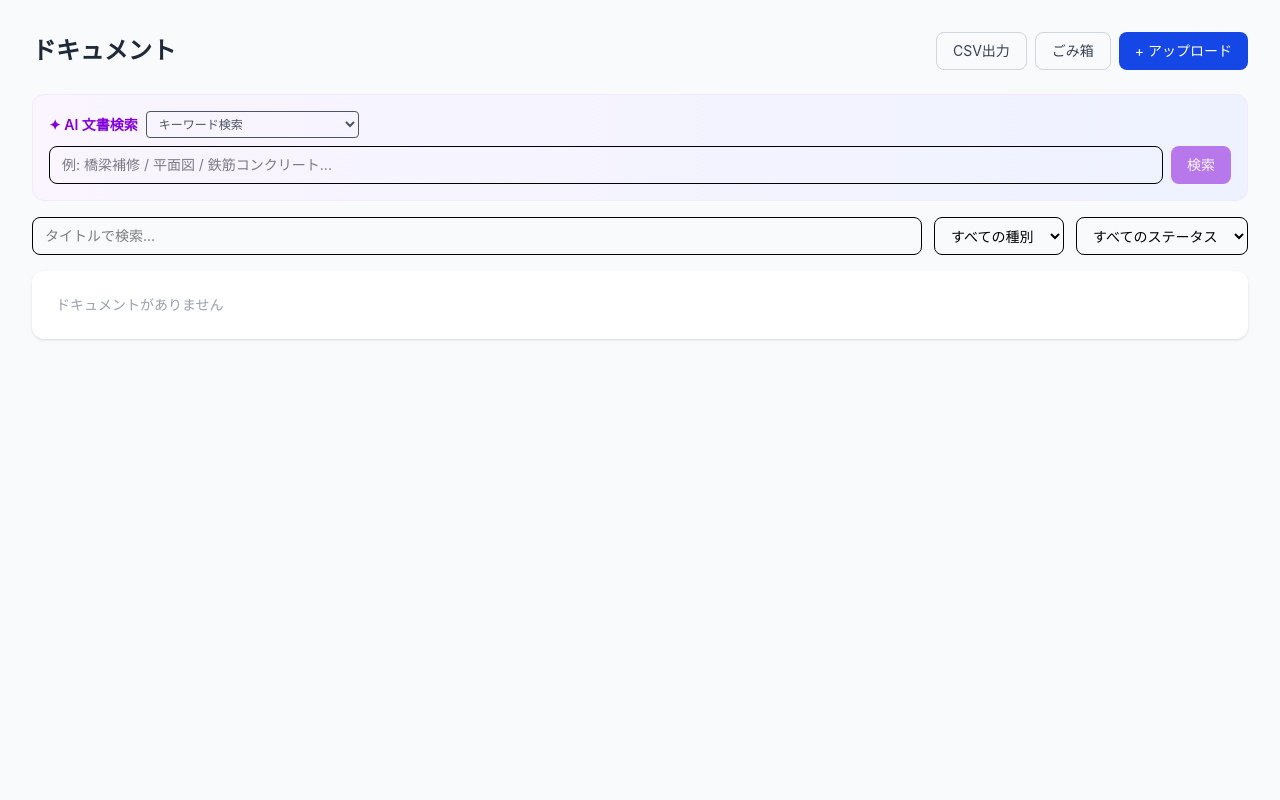
Test: Documents › hides upload form when cancel clicked
The image size is (1280, 800).
Click the button "+ アップロード".
click(1183, 51)  # box [1119,32,1248,70]
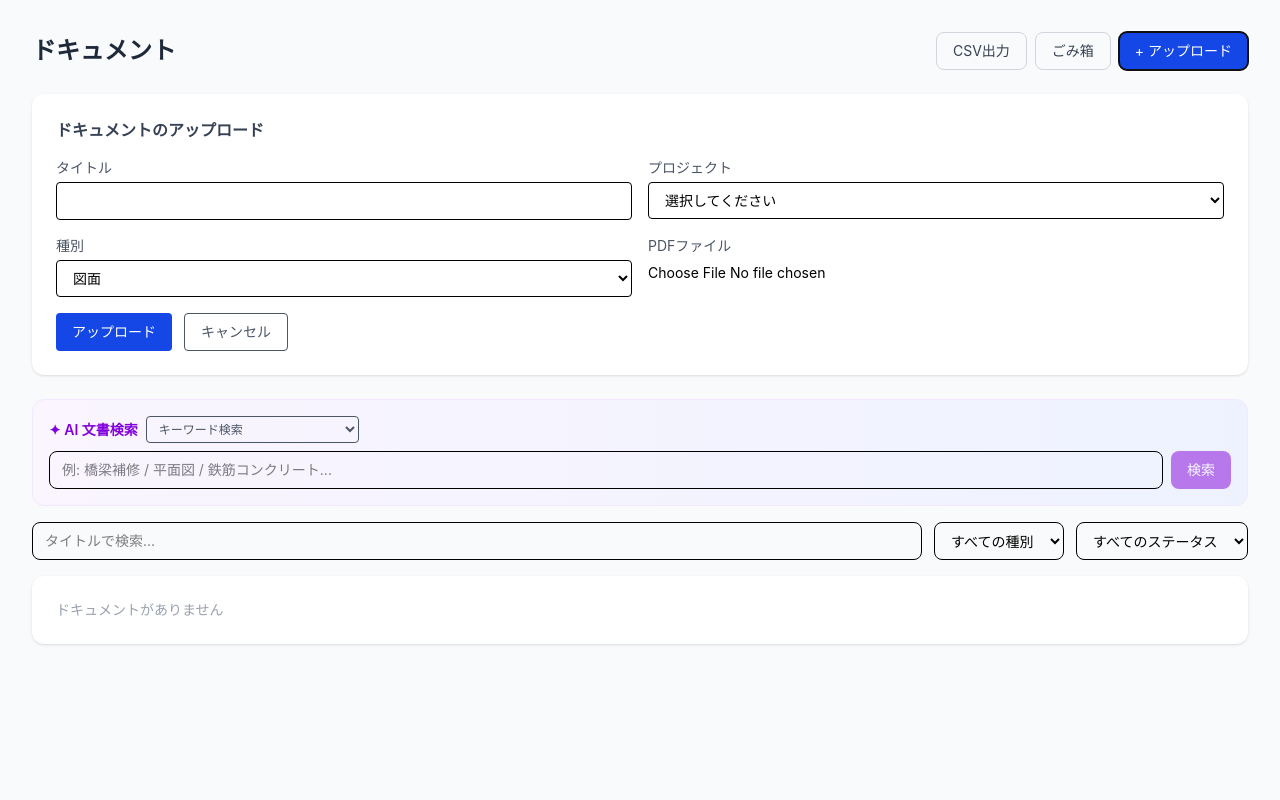
Check: the heading "ドキュメントのアップロード" is shown, box [56,120,264,140]
Click the button "キャンセル".
click(236, 332)  # box [184,313,288,351]
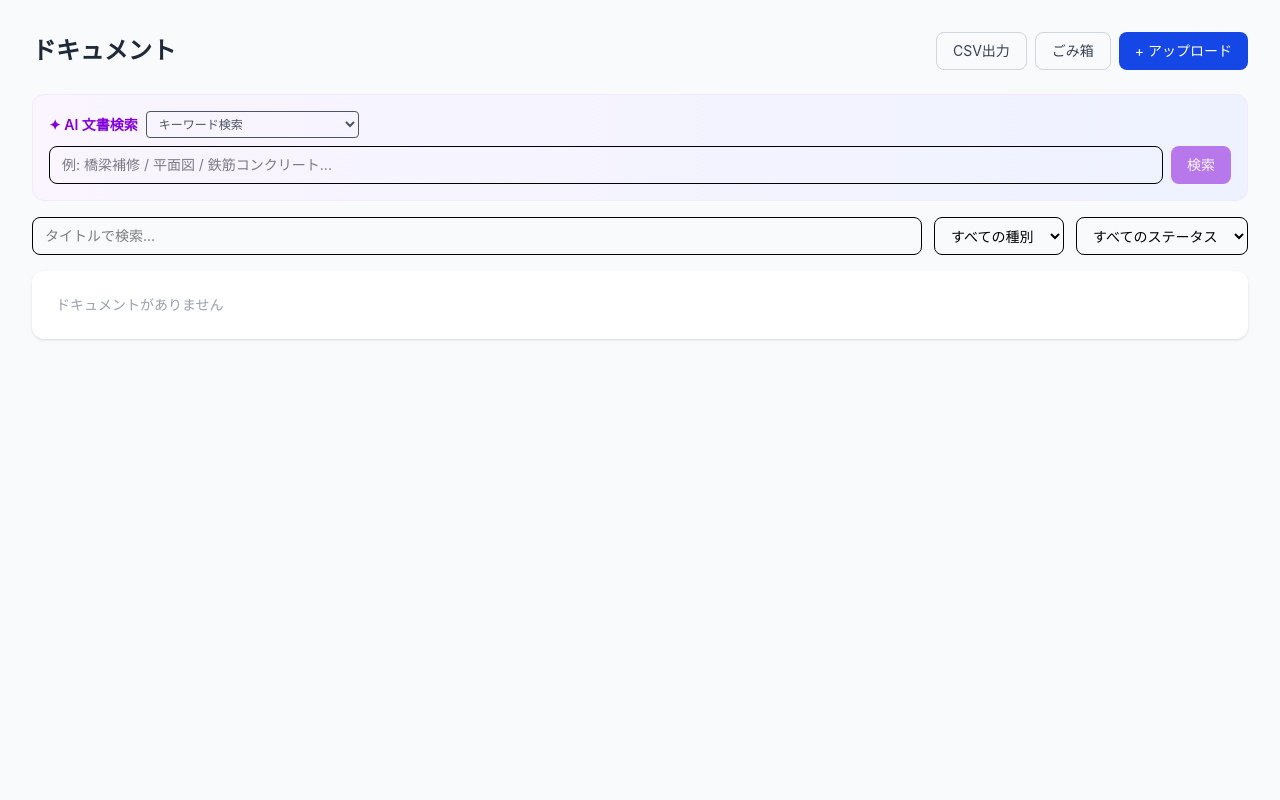
Check: the heading "ドキュメントのアップロード" is gone
